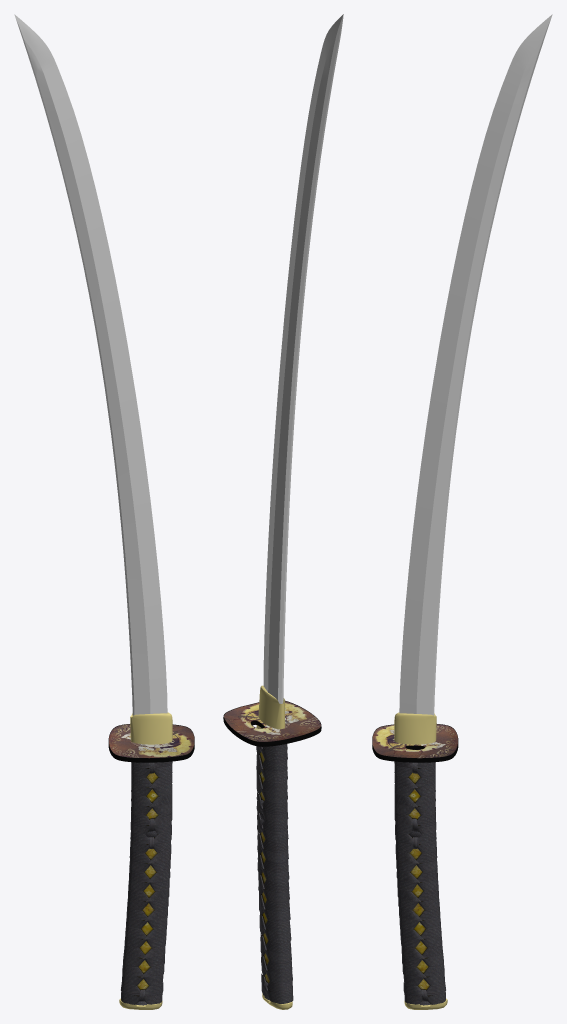
Rendered from KatanaYellow.glb.
The picture shows the model from 3 angles, left to right: view 1: azimuth 90°, elevation 25°; view 2: azimuth 210°, elevation 25°; view 3: azimuth 270°, elevation 25°; orthographic projection. The views are drawn at different scales.
Parts seen in each view (by area): view 1: katana1; view 2: katana1; view 3: katana1.
Boxes of the visible parts, x1,y1,x2,y2 form: katana1: (14, 14, 194, 1009); katana1: (223, 14, 343, 1009); katana1: (372, 14, 552, 1009).
Size of the model in its own units: 0.0573 by 0.7546 by 0.1242.
1 material, 1 textured.
